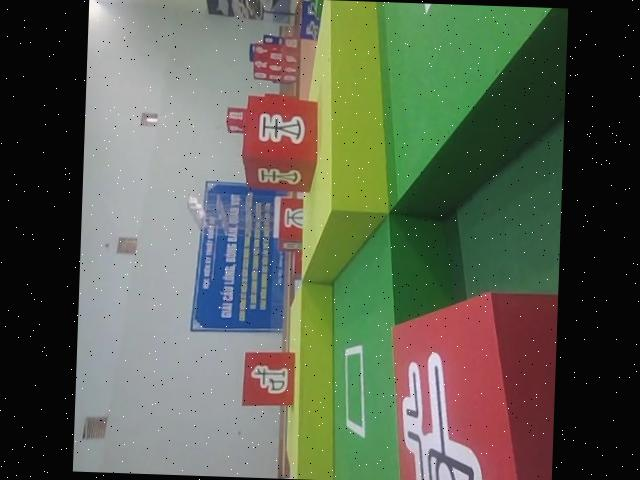R2 Real: (376, 284, 558, 480), (237, 93, 328, 196), (236, 347, 296, 411)
